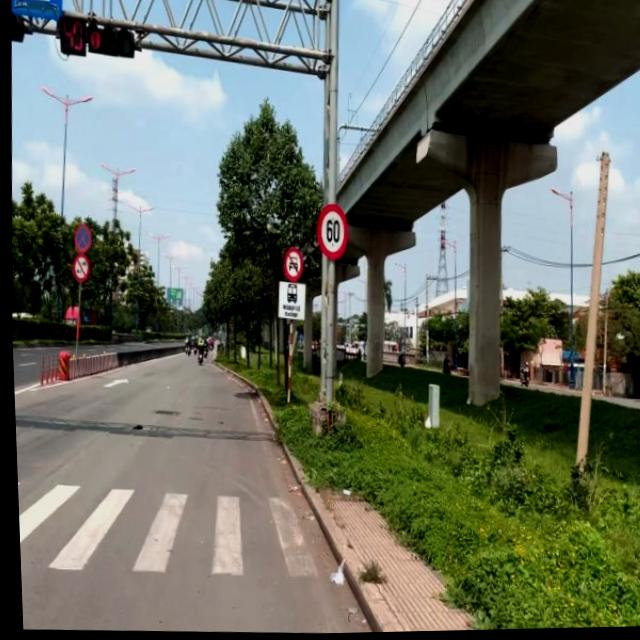Cam dung xe va do xe: (70, 222, 91, 254)
Cam xe oto: (279, 247, 302, 283)
Toc do toi da cho phep: (313, 203, 348, 264)
